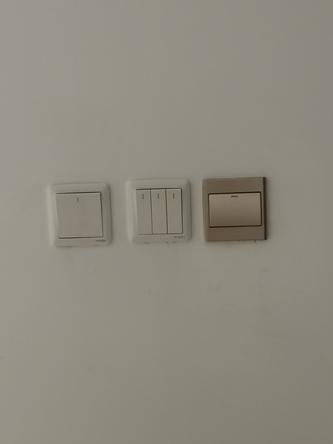switch: (52, 187, 108, 246), (204, 189, 265, 230), (164, 184, 185, 238), (147, 187, 169, 237), (134, 187, 154, 235)
